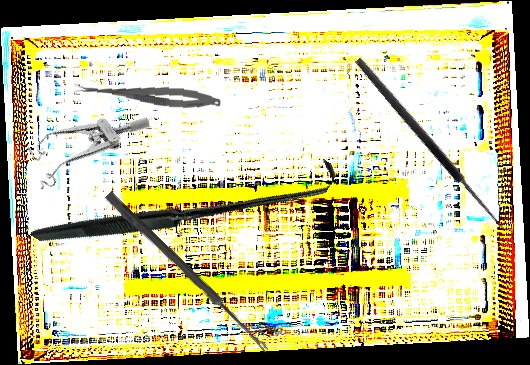Hook Surgical: (29, 49, 341, 355), (353, 49, 516, 232)
Micro Scissor: (73, 80, 222, 112)
Speculum: (15, 79, 153, 201)
Surgical Spoon: (103, 191, 272, 354)
